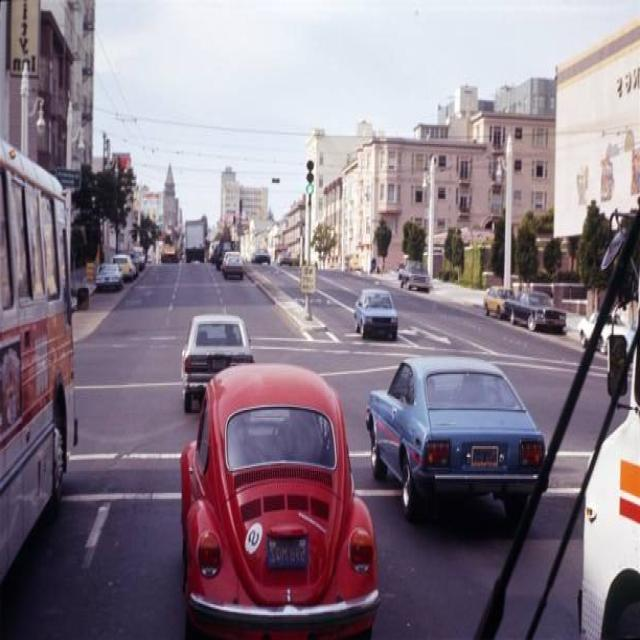car: (182, 366, 367, 640), (364, 360, 546, 516), (179, 313, 249, 411), (514, 284, 566, 329), (356, 284, 394, 342), (220, 250, 246, 282), (98, 260, 120, 292)
